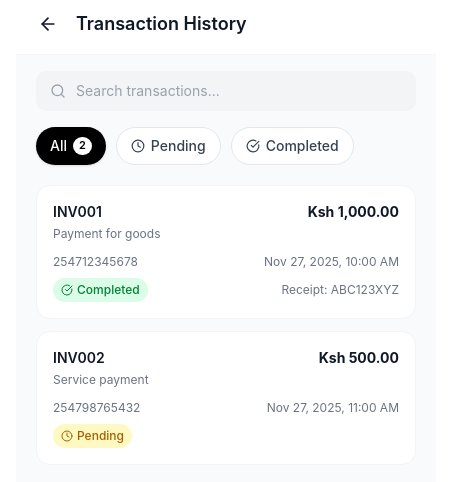
Test: TransactionHistoryPage › filters transactions by search query
In the field with placeholder "Search transactions...": (226, 91) [36,71,416,111], type "INV001"
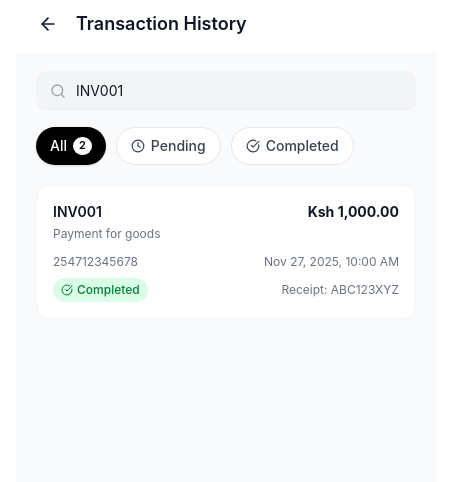
Expected: the heading "INV001" is shown, [53,203,102,220]
Expected: the heading "INV002" is gone
